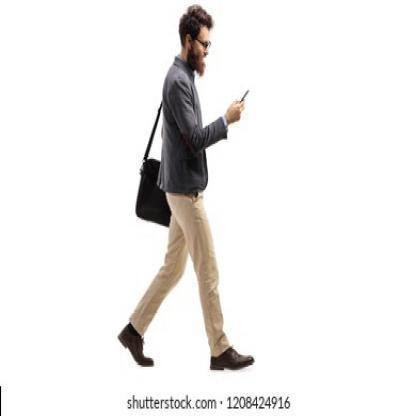person: (155, 0, 223, 366)
